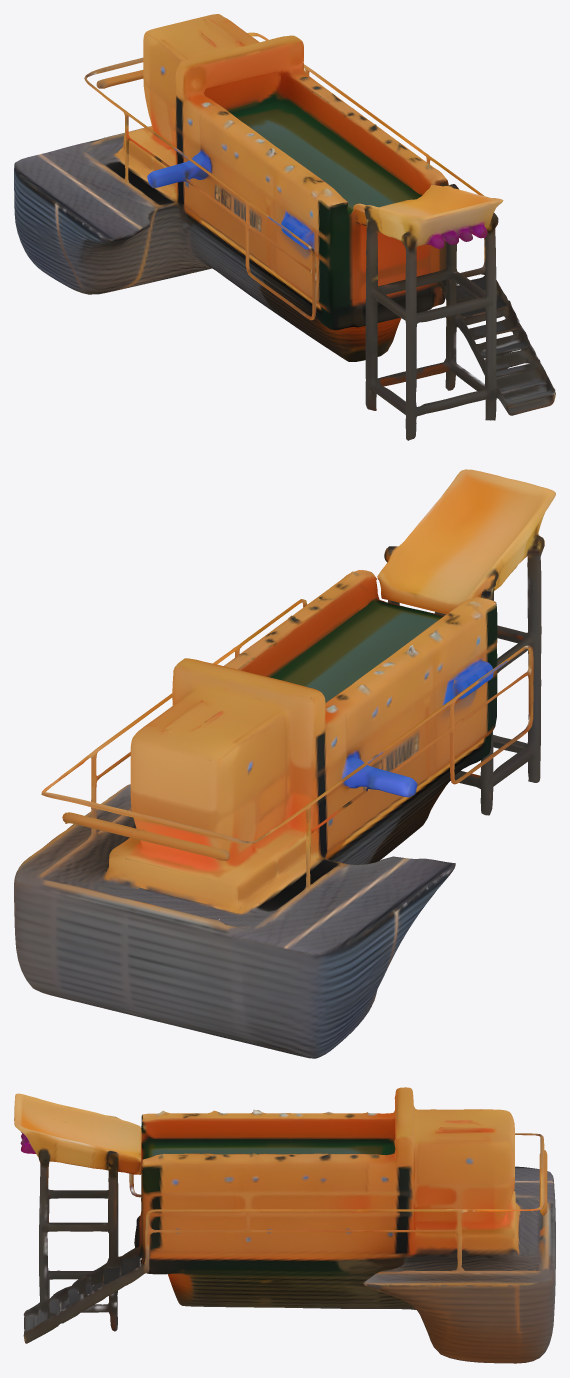
File: ECS_Premium_base_basic_shaded.fbx
The picture shows the model from 3 angles, top to bottom: view 1: azimuth 30°, elevation 25°; view 2: azimuth 150°, elevation 25°; view 3: azimuth 270°, elevation 25°; orthographic projection. The views are drawn at different scales.
Visible parts, largest first — view 1: model; view 2: model; view 3: model.
Boxes of the visible parts, x1=… form: model: x1=14, y1=14, x2=555, y2=440; model: x1=14, y1=469, x2=555, y2=1058; model: x1=14, y1=1087, x2=555, y2=1363.
Size of the model in its own units: 99.09 by 82.85 by 190.
